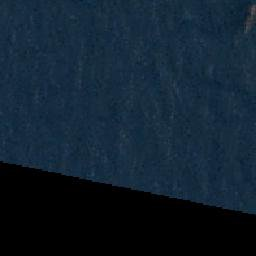debris: (243, 1, 256, 33)
